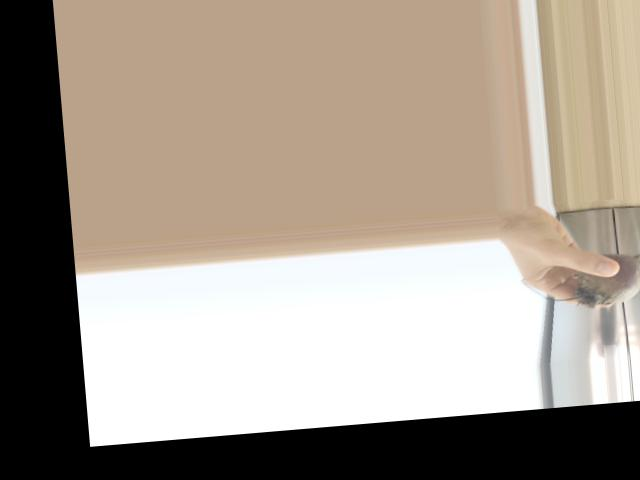beet: (520, 250, 640, 313)
